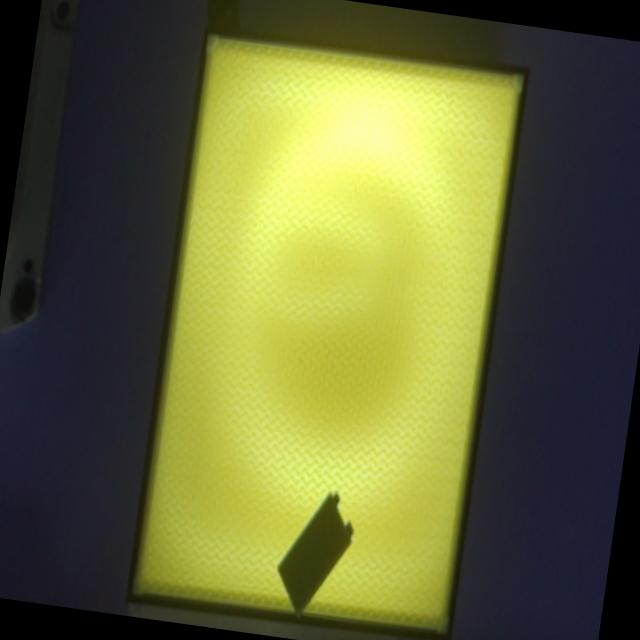bateria: (278, 492, 353, 617)
mesa: (123, 23, 531, 640)
